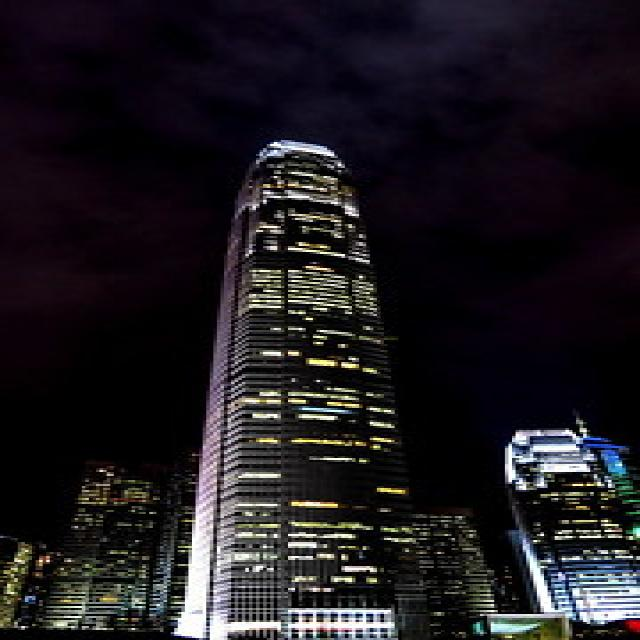building: (174, 134, 448, 640), (501, 419, 640, 637)
